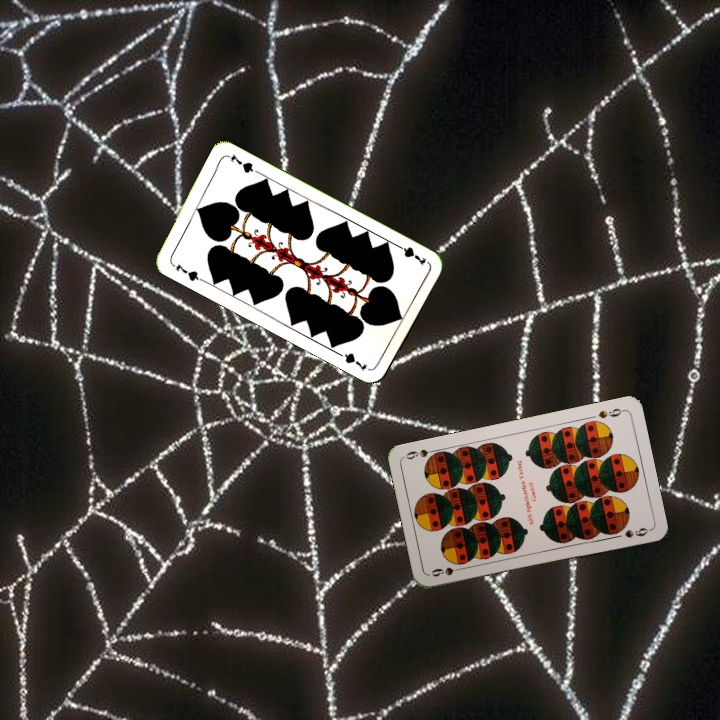G7: (391, 240, 429, 268), (167, 259, 205, 284)
S9: (427, 563, 467, 579), (594, 404, 627, 421)
